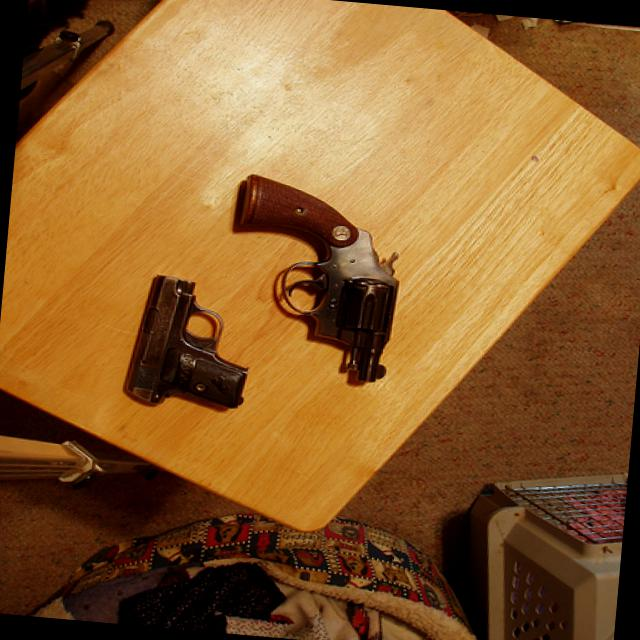handgun: (225, 170, 408, 386), (122, 269, 257, 413)
